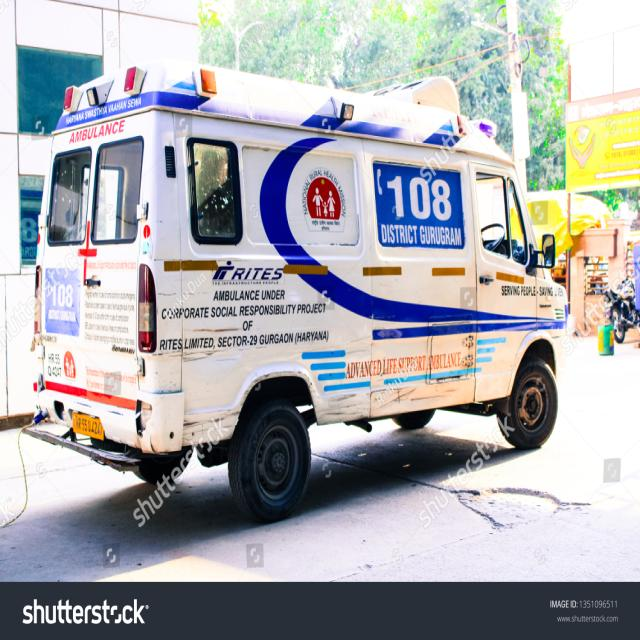ambulance: (31, 61, 566, 514)
